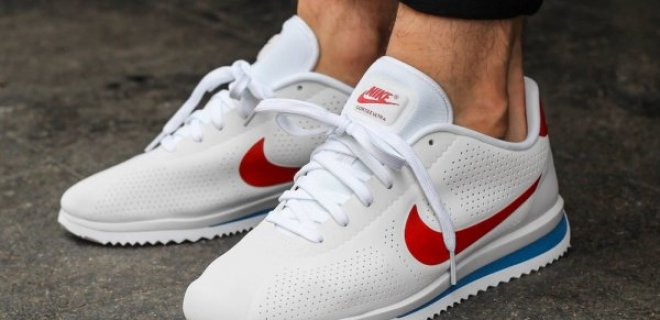nike: (396, 172, 540, 267)
